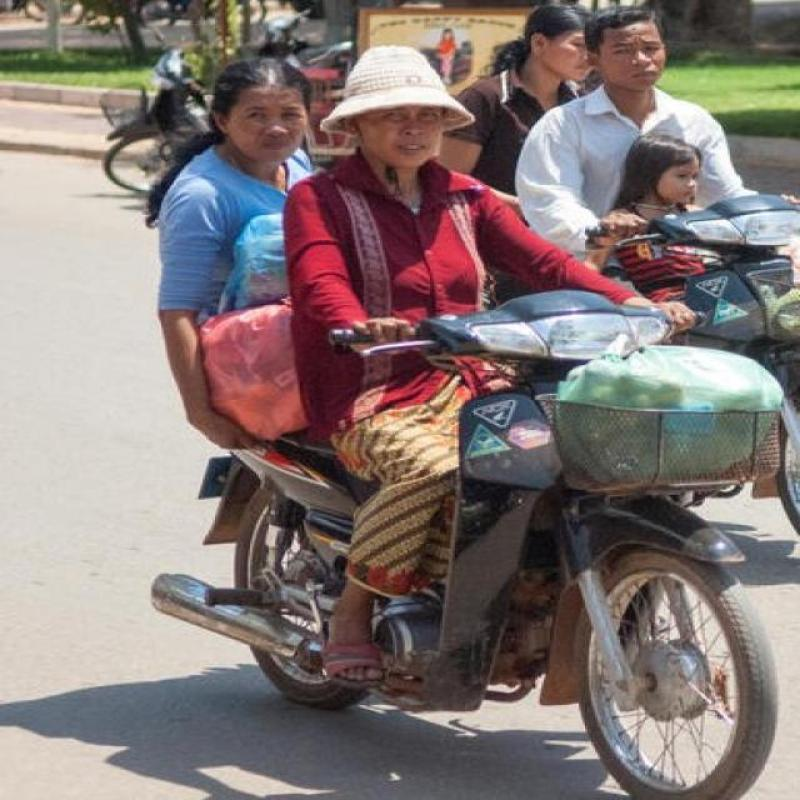nohelmet: (318, 38, 482, 174), (204, 48, 315, 177)
